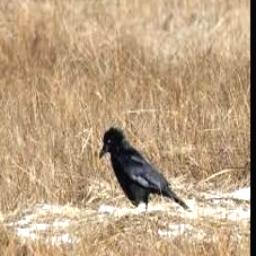Crow: (99, 125, 191, 213)
